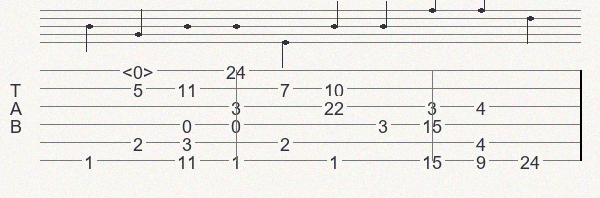0: (182, 116, 196, 133), (231, 116, 245, 133)
1: (84, 152, 98, 169), (231, 152, 245, 169), (329, 152, 343, 169)
10: (324, 80, 348, 97)
11: (177, 80, 201, 97), (177, 152, 201, 169)
15: (422, 116, 446, 133), (422, 152, 446, 169)
2: (133, 134, 147, 151), (280, 134, 294, 151)
22: (324, 98, 348, 115)
24: (226, 62, 250, 79), (520, 152, 544, 169)
3: (182, 134, 196, 151), (231, 98, 245, 115), (378, 116, 392, 133), (427, 98, 441, 115)
4: (476, 98, 490, 115), (476, 134, 490, 151)
5: (133, 80, 147, 97)
7: (280, 80, 294, 97)
9: (476, 152, 490, 169)
harmonic: (122, 62, 158, 79)
